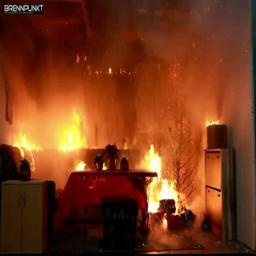fire: (9, 96, 187, 212)
